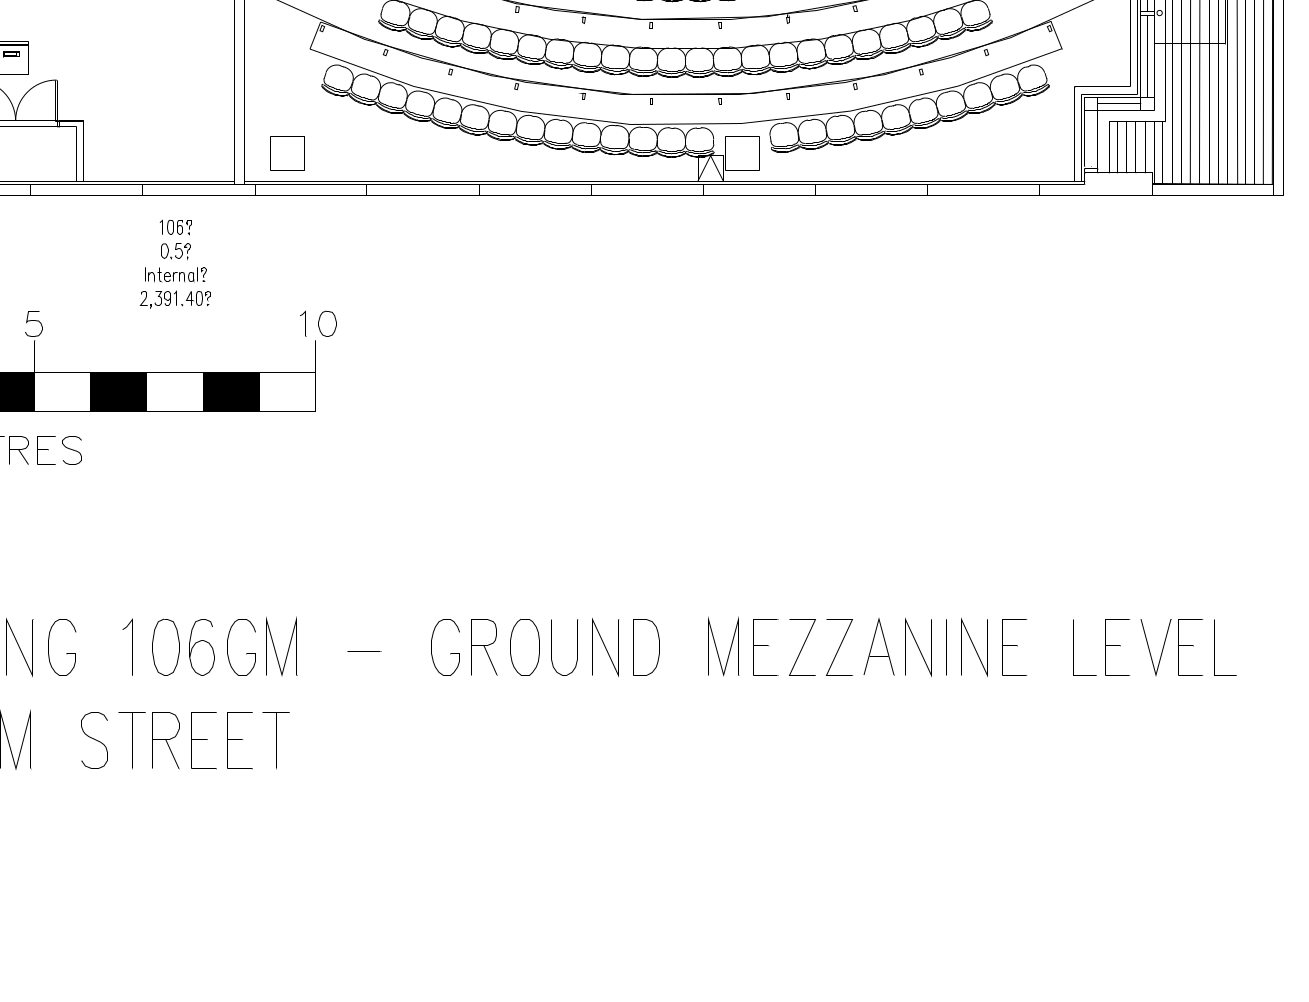door: (15, 75, 69, 133)
